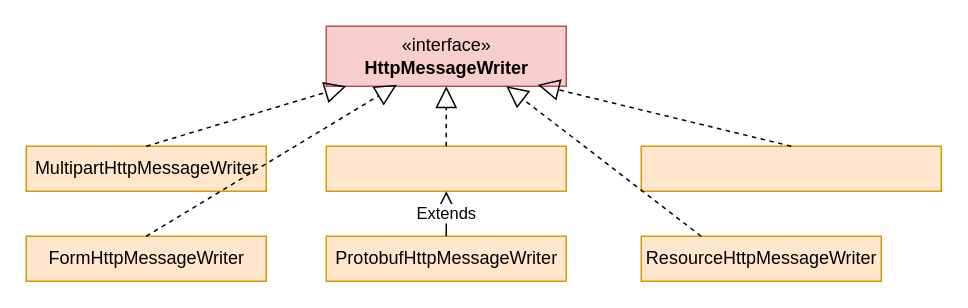
The diagram is 968 pixels wide and 308 high, and some of its shapes have lost their labels. Here are the shapes that lost their labels. From the top down, the centre of each, then its label:
At (x=445, y=168): "EncoderHttpMessageWriter".
At (x=790, y=168): "ServerSentEventHttpMessageWriter".
